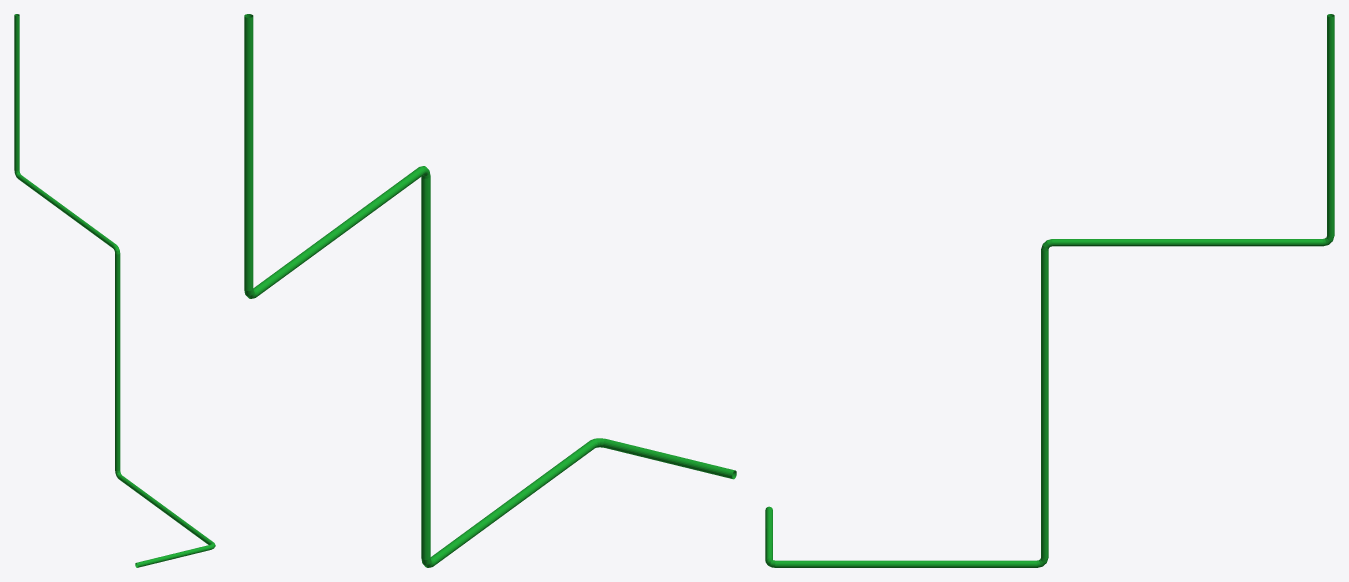
Rendered from Куб_100_нов.fbx.
3 views of the same model, side by side, from view 1: azimuth 30°, elevation 25°; view 2: azimuth 150°, elevation 25°; view 3: azimuth 270°, elevation 25° (orthographic). The views are drawn at different scales.
Visible parts, largest first — view 1: Куб_100_LOD0; view 2: Куб_100_LOD0; view 3: Куб_100_LOD0.
Part boxes in pixels (<box>): Куб_100_LOD0: <box>14,14,215,567</box>; Куб_100_LOD0: <box>244,14,736,567</box>; Куб_100_LOD0: <box>765,14,1334,567</box>.
Size of what is drawn, in the model's own units: 425 by 1962 by 1833.
